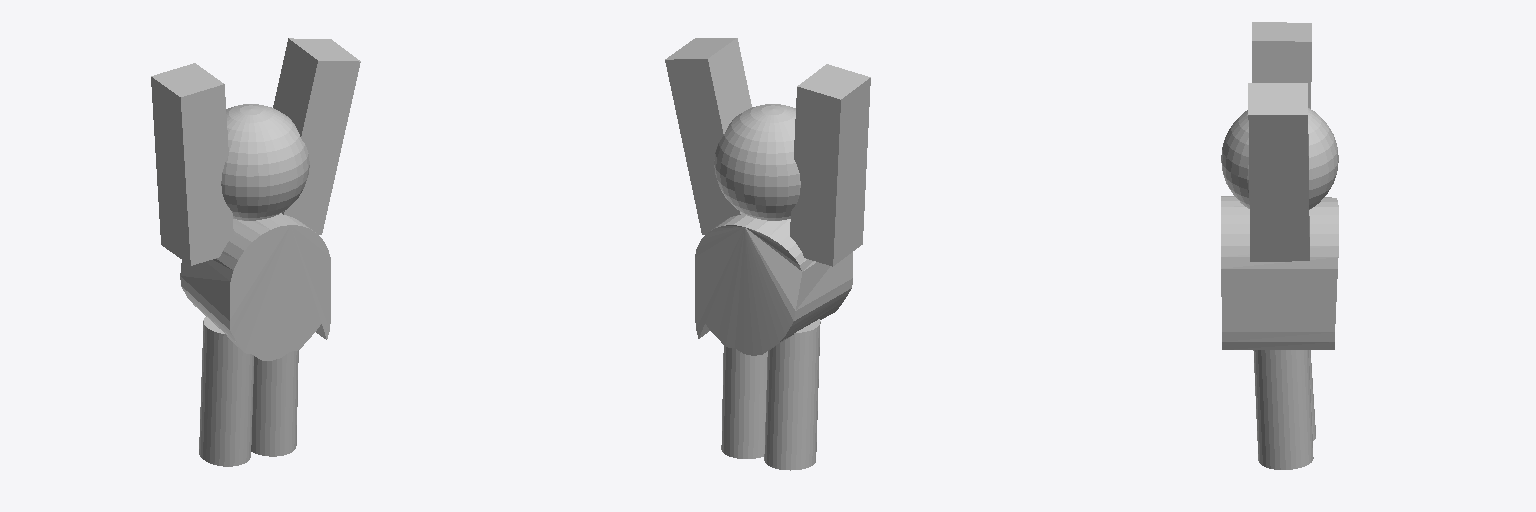
File: Figurine160.obj
The picture shows the model from 3 angles: view 1: azimuth 30°, elevation 25°; view 2: azimuth 150°, elevation 25°; view 3: azimuth 270°, elevation 25°; orthographic projection.
Visible parts, largest first — view 1: Cylinder; view 2: Cylinder; view 3: Cylinder.
Part boxes in pixels (left/top/right/bottom): Cylinder: left=151, top=38, right=360, bottom=466; Cylinder: left=665, top=38, right=870, bottom=470; Cylinder: left=1221, top=22, right=1338, bottom=469.
Bounding box in the file's own units: 3.49 × 7.35 × 2.